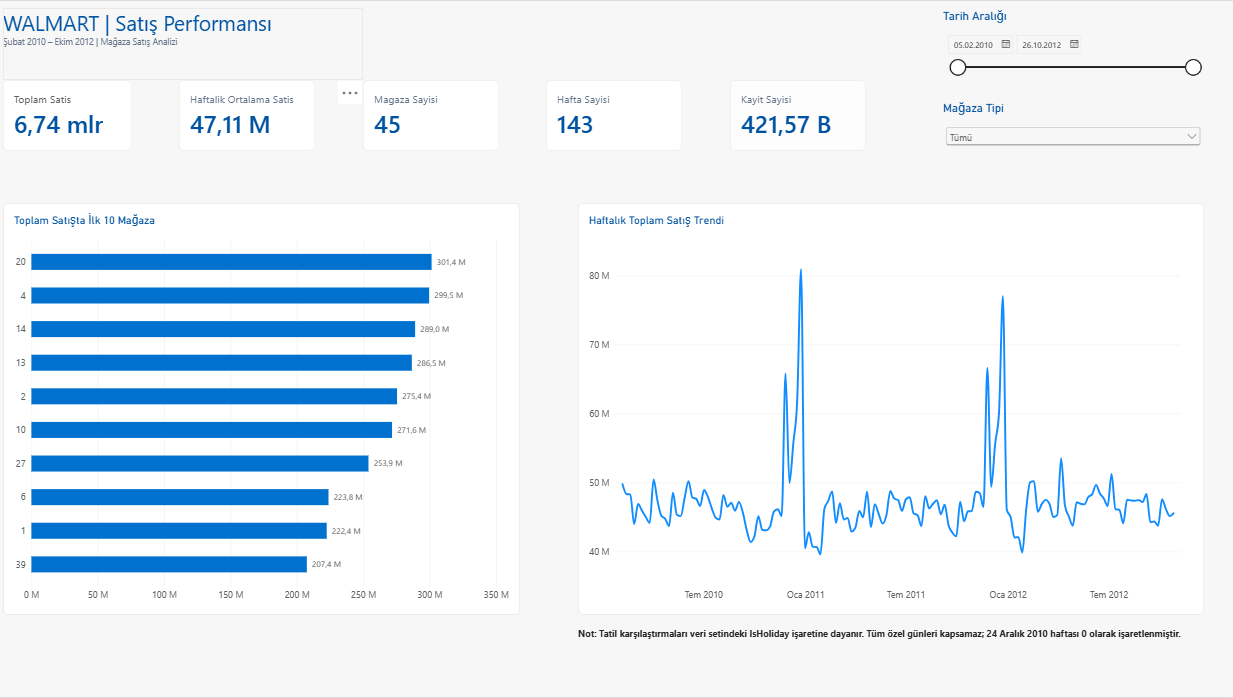

The dashboard page shown, as its layout file describes it:
{"tool":"powerbi","page":{"name":"1. sayfa","canvas":[1920,1080],"ordinal":0},"visuals":[{"type":"cardVisual","fields":{"Data":["WalmartSales.Kayit Sayisi"]},"box":[1137.4,122,210,110],"z":0},{"type":"cardVisual","fields":{"Data":["WalmartSales.Toplam Satis"]},"box":[10.8,122.4,199.9,110],"z":1000},{"type":"cardVisual","fields":{"Data":["WalmartSales.Magaza Sayisi"]},"box":[568.7,122,210,110],"z":2000},{"type":"cardVisual","fields":{"Data":["WalmartSales.Hafta Sayisi"]},"box":[853,122,210,110],"z":3000},{"type":"cardVisual","fields":{"Data":["WalmartSales.Haftalik Ortalama Satis"]},"box":[284.3,122,210,110],"z":4000},{"type":"textbox","box":[10.8,10.8,557.9,111.6],"z":5000},{"type":"clusteredBarChart","title":"Toplam Satışta İlk 10 Mağaza","fields":{"Category":["WalmartSales.Store"],"Y":["WalmartSales.Toplam Satis"]},"box":[10.8,313,801.2,638.5],"z":6000},{"type":"lineChart","title":"Haftalık Toplam Satış Trendi","fields":{"Category":["WalmartSales.Date"],"Y":["WalmartSales.Toplam Satis"]},"box":[901.9,313,970.1,638.5],"z":7000},{"type":"textbox","box":[901.9,951.5,987.1,91.4],"z":8000},{"type":"slicer","title":"Tarih Aralığı","fields":{"Values":["WalmartSales.Date"]},"box":[1467.5,10.8,404.5,122.4],"z":9000},{"type":"slicer","title":"Mağaza Tipi","fields":{"Values":["WalmartSales.StoreType"]},"box":[1467.5,153.4,403.8,106.2],"z":10000}]}

Visuals, with their boxes in screenshot pixels (x1, y1, x2, y2), scaled from the page's 1920x1080 canvas onto the 1233x698 screenshot:
cardVisual - WalmartSales.Kayit Sayisi: (730,79,865,150)
cardVisual - WalmartSales.Toplam Satis: (7,79,135,150)
cardVisual - WalmartSales.Magaza Sayisi: (365,79,500,150)
cardVisual - WalmartSales.Hafta Sayisi: (548,79,683,150)
cardVisual - WalmartSales.Haftalik Ortalama Satis: (183,79,317,150)
textbox: (7,7,365,79)
"Toplam Satışta İlk 10 Mağaza" clusteredBarChart: (7,202,521,615)
"Haftalık Toplam Satış Trendi" lineChart: (579,202,1202,615)
textbox: (579,615,1213,674)
"Tarih Aralığı" slicer: (942,7,1202,86)
"Mağaza Tipi" slicer: (942,99,1202,168)
